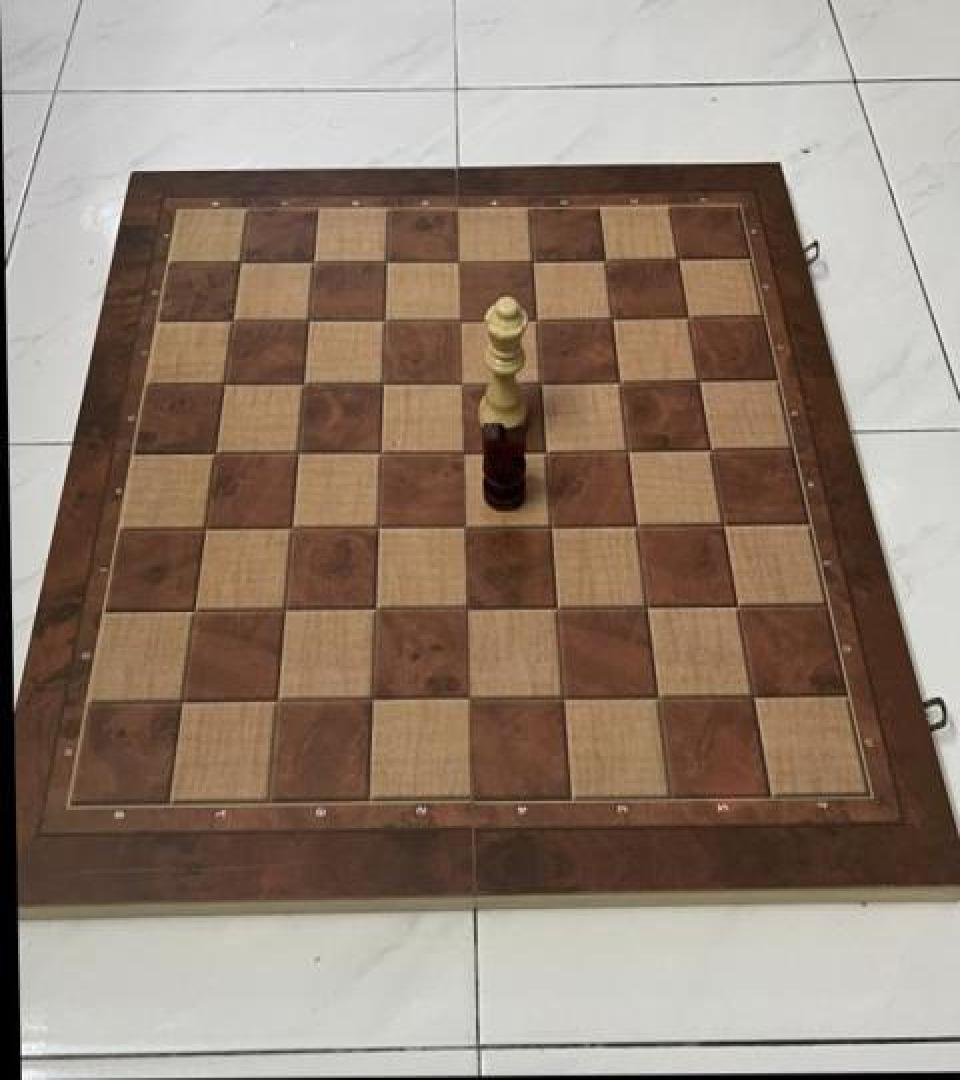xcorner: (225, 242, 259, 280), (299, 242, 333, 280), (372, 241, 406, 279), (445, 241, 479, 279), (518, 240, 552, 278), (591, 240, 625, 278), (664, 238, 698, 276), (217, 302, 251, 340), (293, 300, 327, 338), (370, 300, 404, 338), (446, 300, 480, 338), (522, 298, 556, 336), (598, 298, 632, 336), (673, 297, 707, 335), (208, 364, 242, 402), (288, 364, 322, 402), (367, 364, 401, 402), (447, 362, 481, 400), (526, 361, 560, 399), (605, 361, 639, 399), (684, 360, 718, 398), (199, 433, 233, 471), (282, 433, 316, 471), (365, 432, 399, 470), (447, 431, 481, 469), (530, 431, 564, 469), (612, 430, 646, 468), (695, 429, 729, 467), (188, 508, 222, 546), (275, 508, 309, 546), (448, 506, 482, 544), (535, 505, 569, 543), (621, 504, 655, 542), (707, 504, 741, 542), (177, 592, 211, 630), (268, 591, 302, 629), (359, 590, 393, 628), (449, 588, 483, 626), (540, 588, 574, 626), (630, 586, 664, 624), (720, 586, 754, 624), (164, 683, 198, 721), (260, 682, 294, 720), (355, 681, 389, 719), (450, 680, 484, 718), (545, 678, 579, 716), (640, 678, 674, 716), (735, 676, 769, 714), (362, 508, 396, 545)
